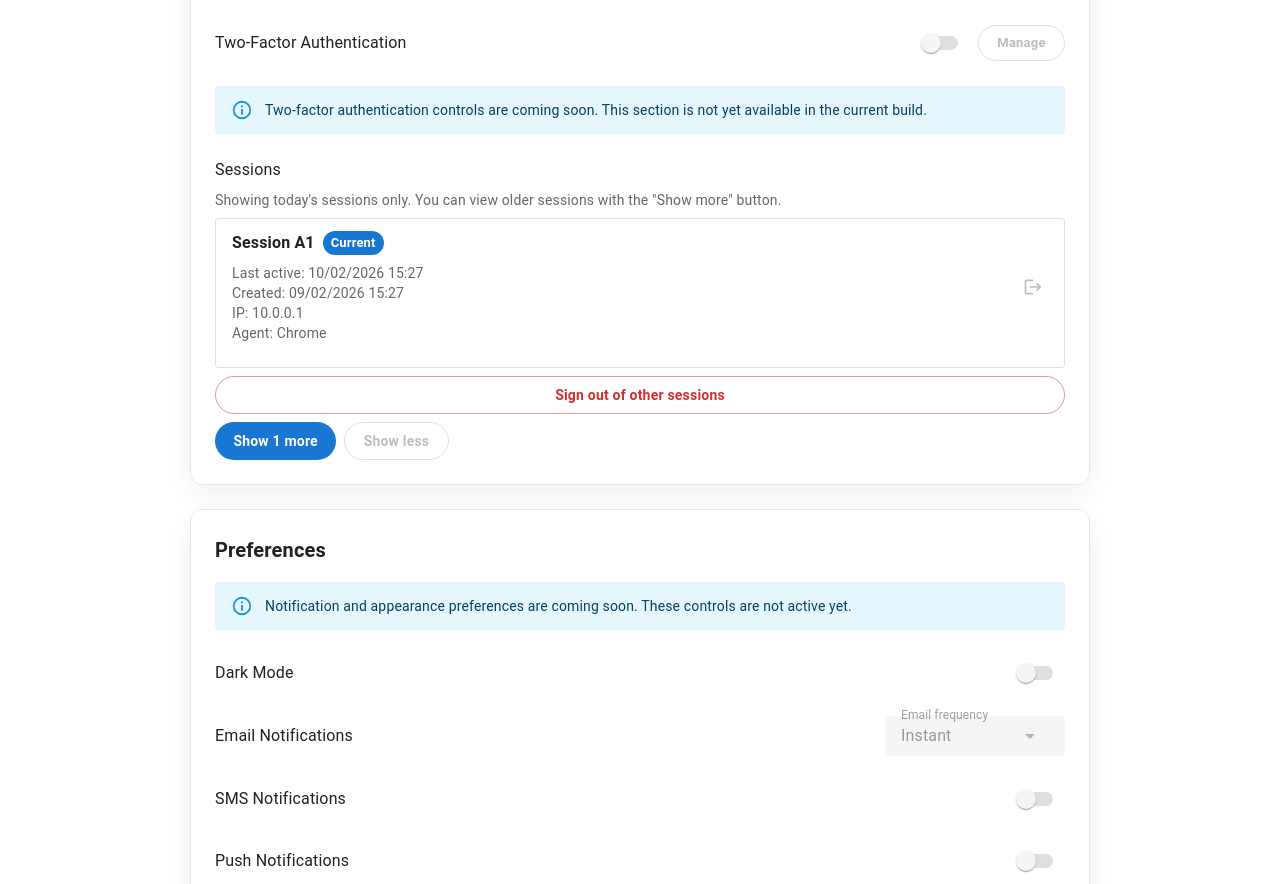
it: InvigilatorProfile › renders profile details and sessions
The width and height of the screenshot is (1280, 884).
(page scrolled)
Check: the text "Session A1" is shown, box [232,231,315,255]
Click the button "Show 1 more".
click(276, 441)  # box [215,422,336,460]
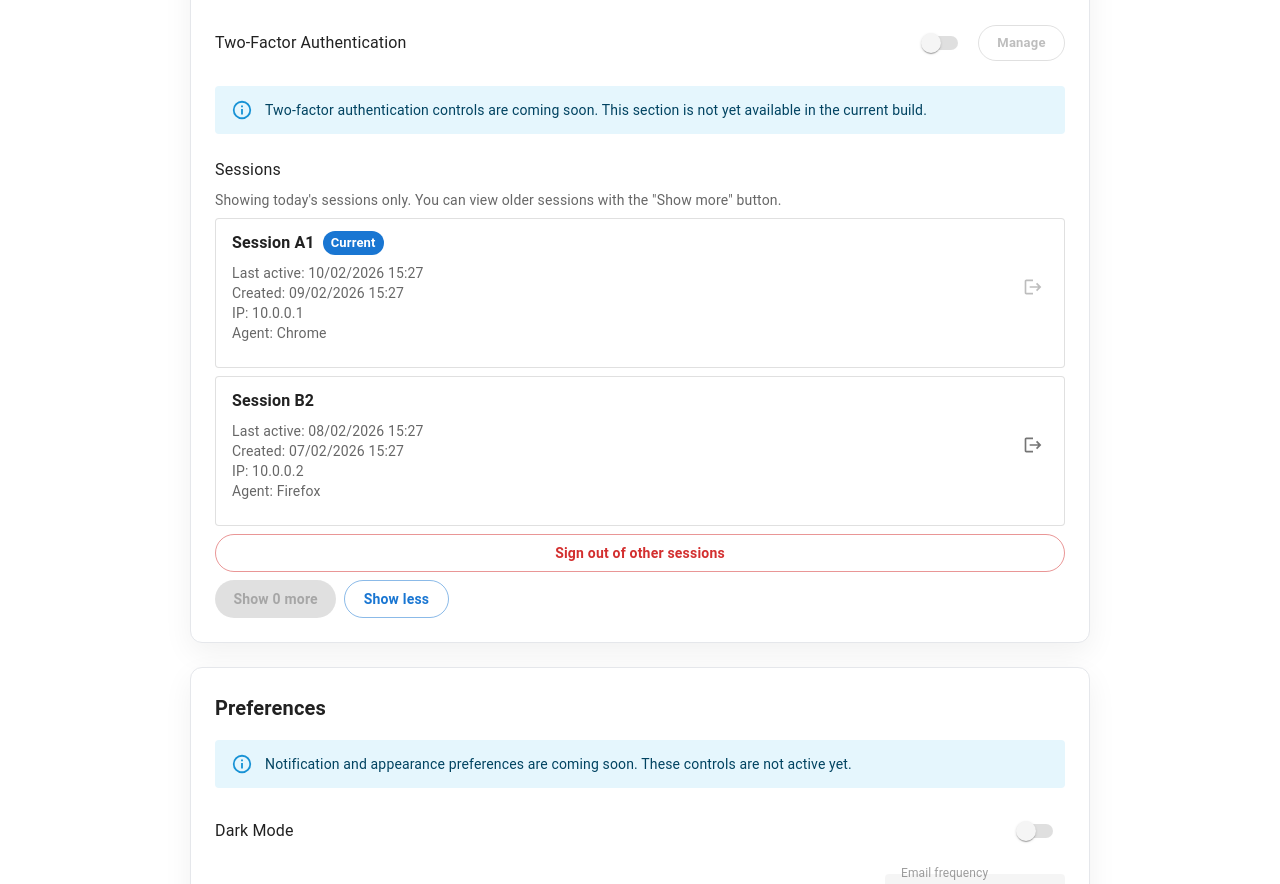
Check: the text "Session B2" is shown, box [232,389,314,413]
